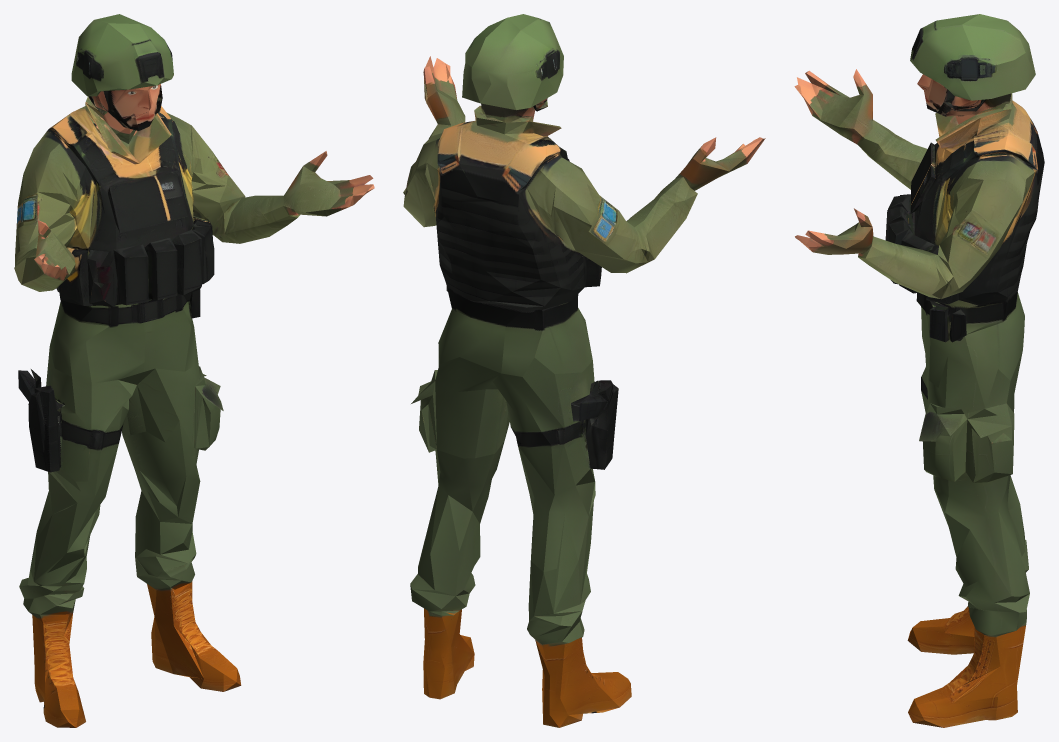
3 views of the same model, side by side, from view 1: azimuth 30°, elevation 25°; view 2: azimuth 150°, elevation 25°; view 3: azimuth 270°, elevation 25° (orthographic).
Visible parts, largest first — view 1: output_unwrapped; view 2: output_unwrapped; view 3: output_unwrapped.
Part boxes in pixels (x1=…): output_unwrapped: x1=14, y1=14, x2=374, y2=727; output_unwrapped: x1=403, y1=14, x2=765, y2=727; output_unwrapped: x1=794, y1=14, x2=1044, y2=727.
Size of the model in its own units: 0.9897 by 1.89 by 0.6467.
1 material, 1 textured.
